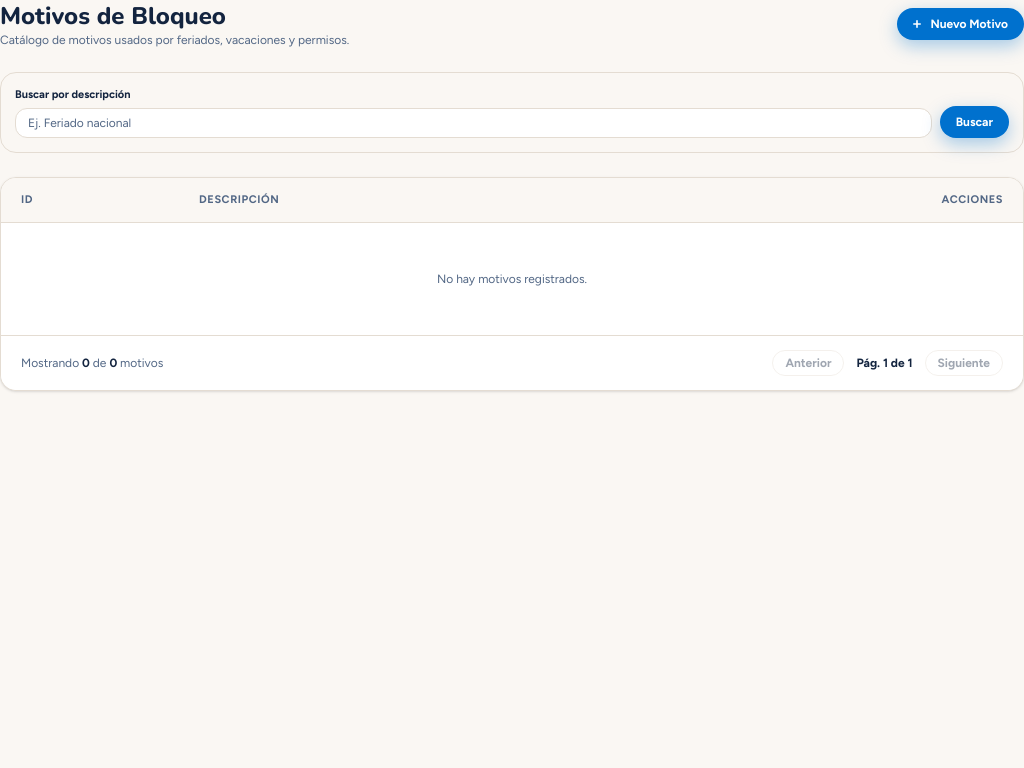
BlockReasonListComponent › creates a block reason and reloads the list
Click the button "Nuevo Motivo" at (960, 24), box [896,8,1023,40]
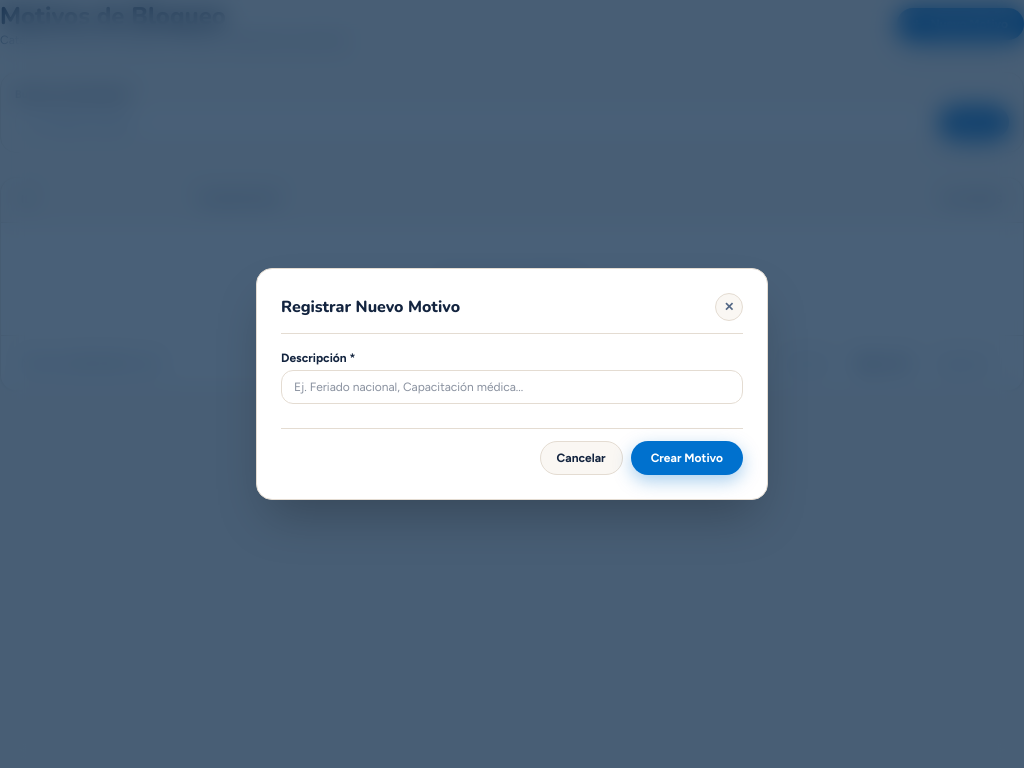
Type "Feriado nacional" into the field with id "description" at (512, 387), box [281,370,743,404]
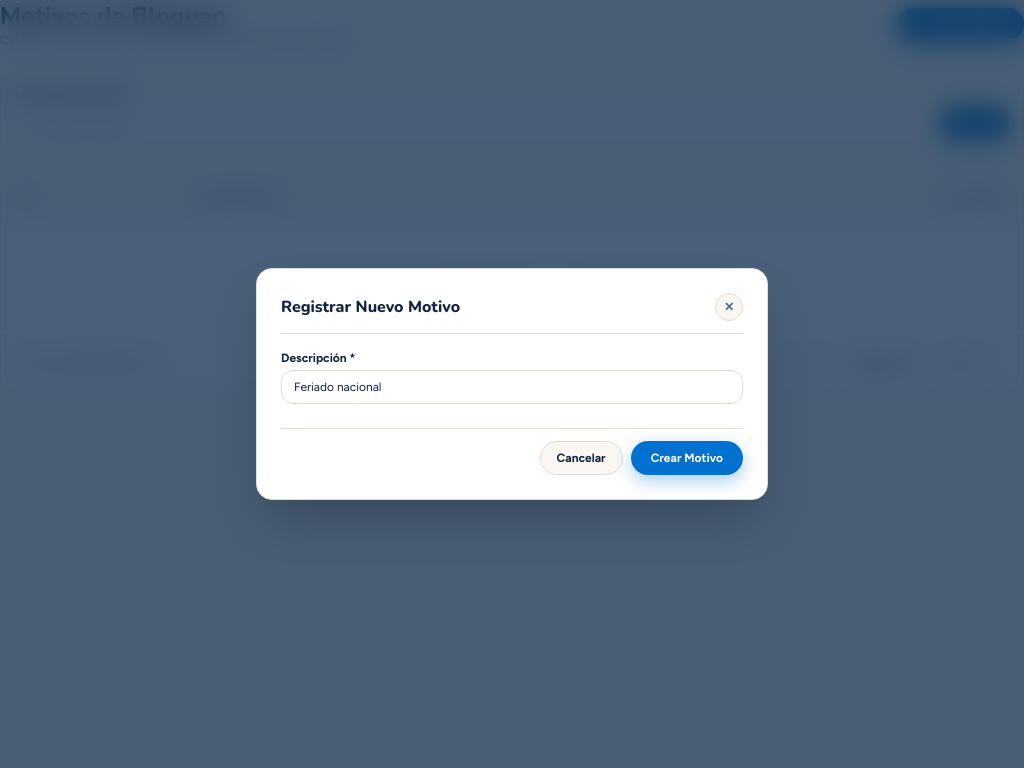
Submit the form, box [281,350,743,475]
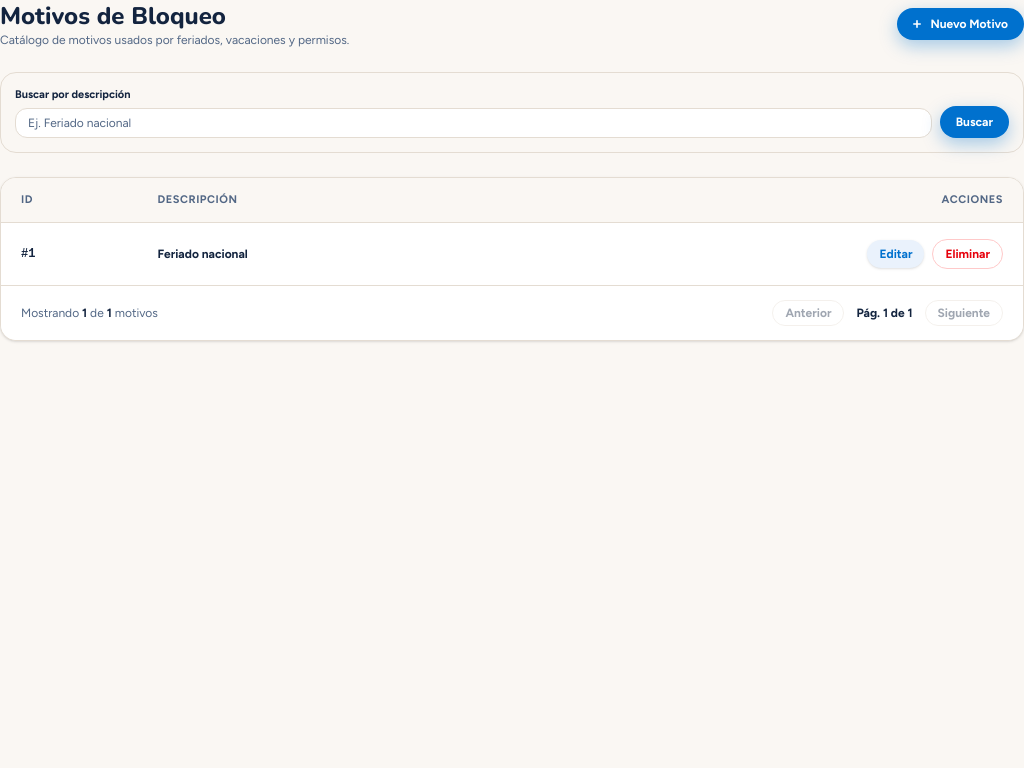
Expected: the text "Feriado nacional" is shown, [146,222,501,285]
